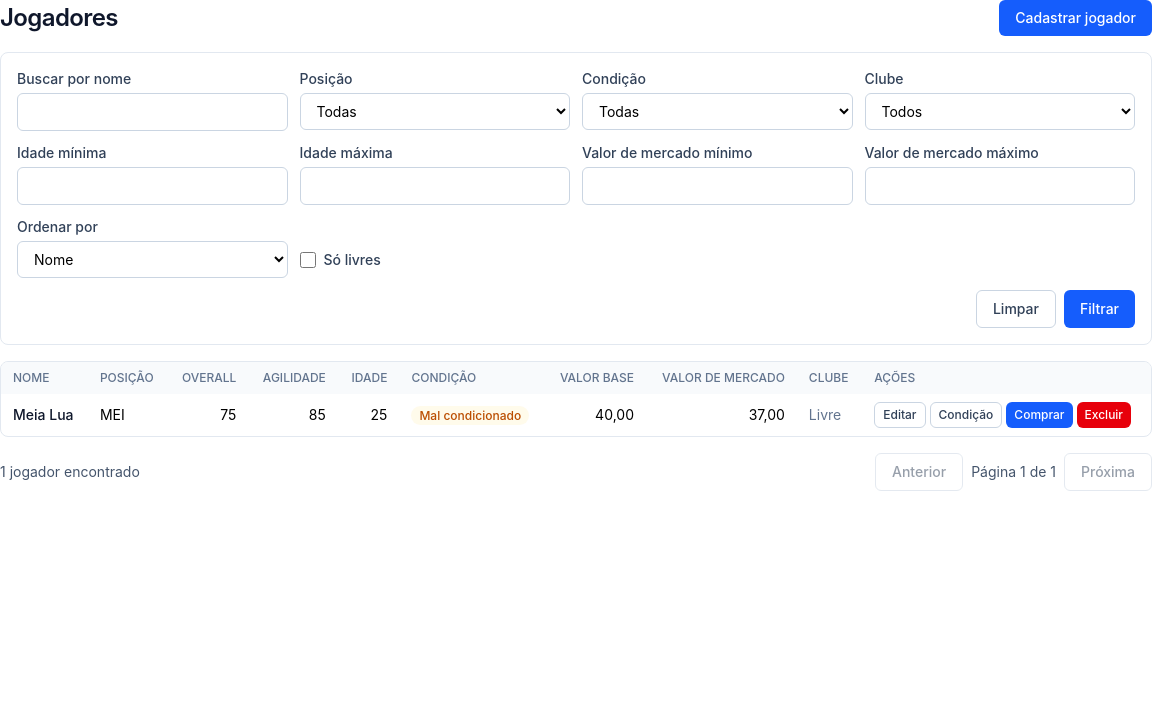
Test: Compra de jogador livre › exige o clube e o fim da fidelidade antes de enviar
The image size is (1152, 720).
Click the button "Comprar" at (1039, 415), box [1006,402,1072,428]
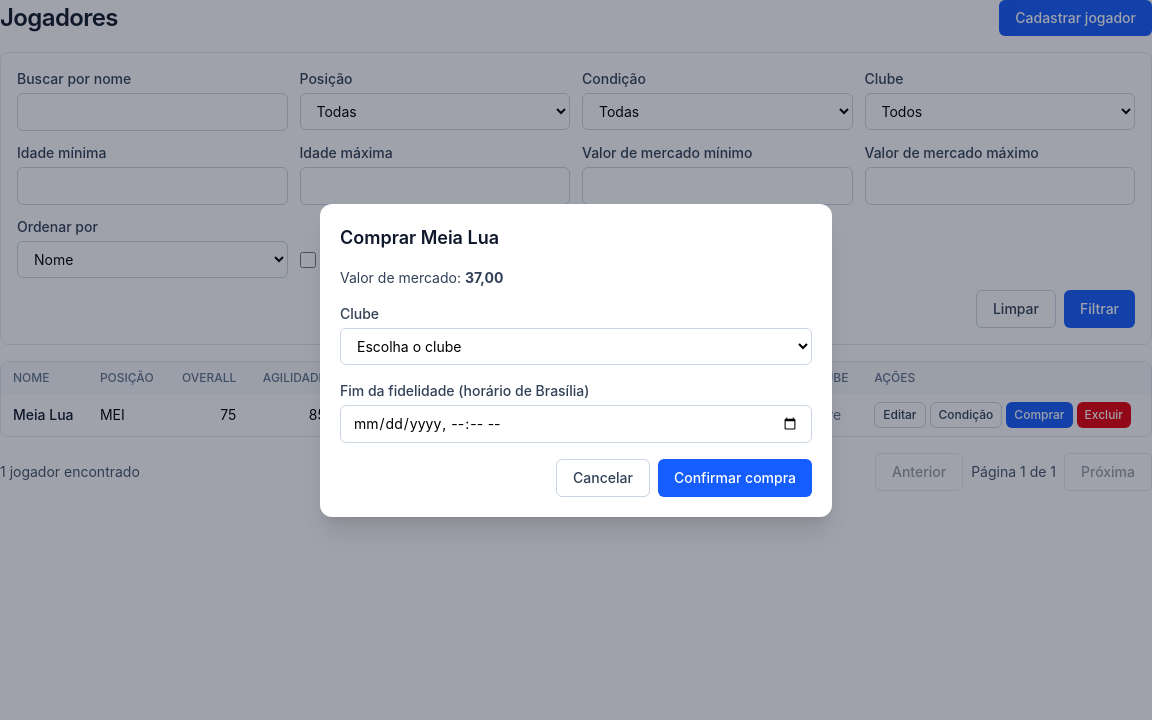
Click the button "Confirmar compra" at (735, 478), box [658,458,812,496]
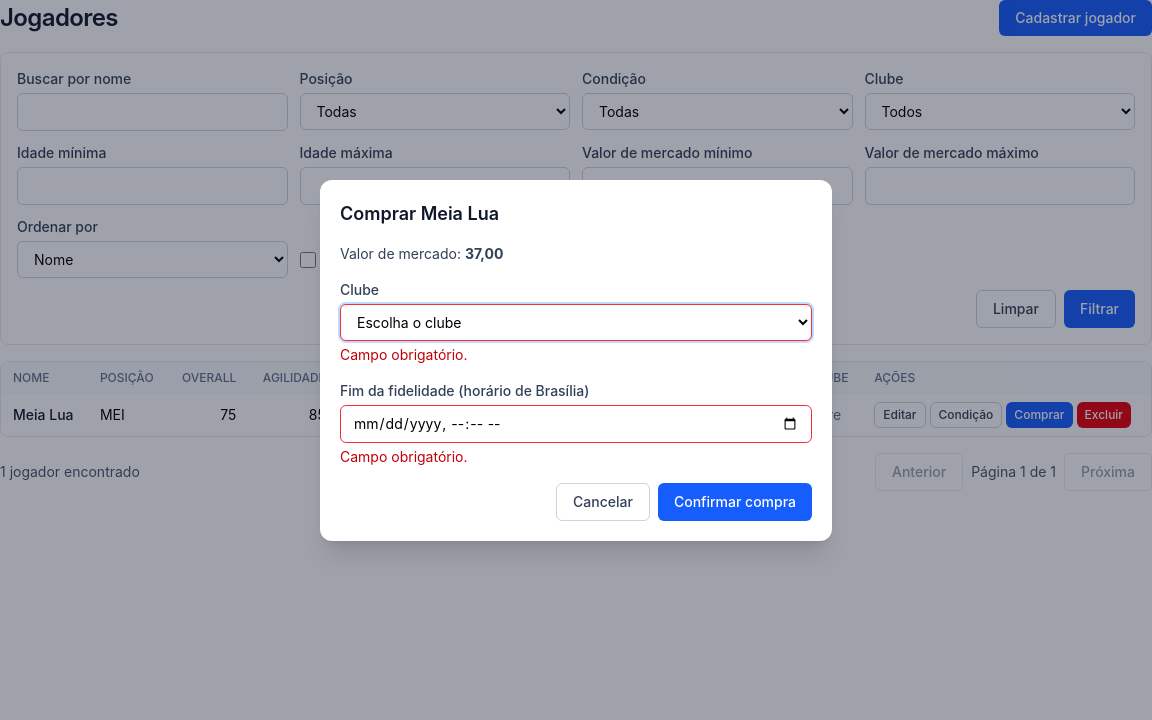
Check: the text "Campo obrigatório." is shown 2 times, box [340,346,468,362]; [340,448,468,464]
